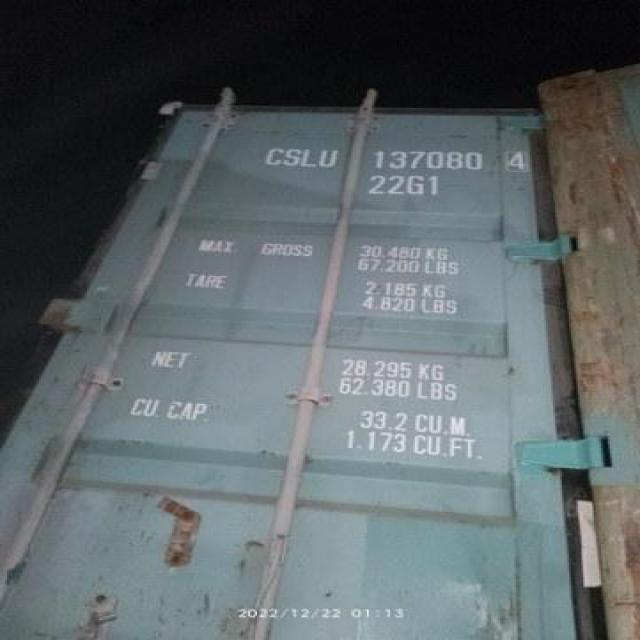ISO: (369, 175, 442, 198)
container_number: (250, 141, 518, 173)
